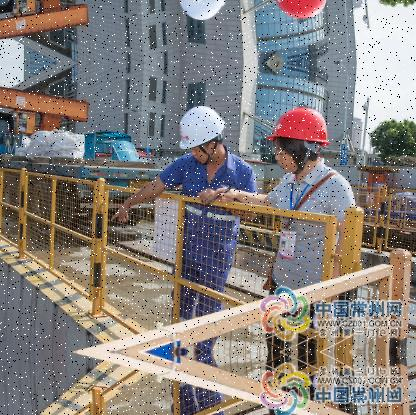helmet: (264, 98, 336, 176), (175, 100, 229, 163), (264, 0, 337, 27), (175, 0, 230, 25)
